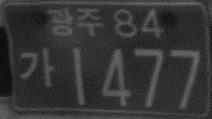1: (70, 44, 88, 105)
4: (100, 47, 131, 108), (139, 8, 164, 38)
7: (168, 46, 202, 112), (133, 47, 164, 108)
8: (113, 7, 138, 37)
가: (18, 45, 54, 88)
광주_O: (46, 6, 104, 36)
